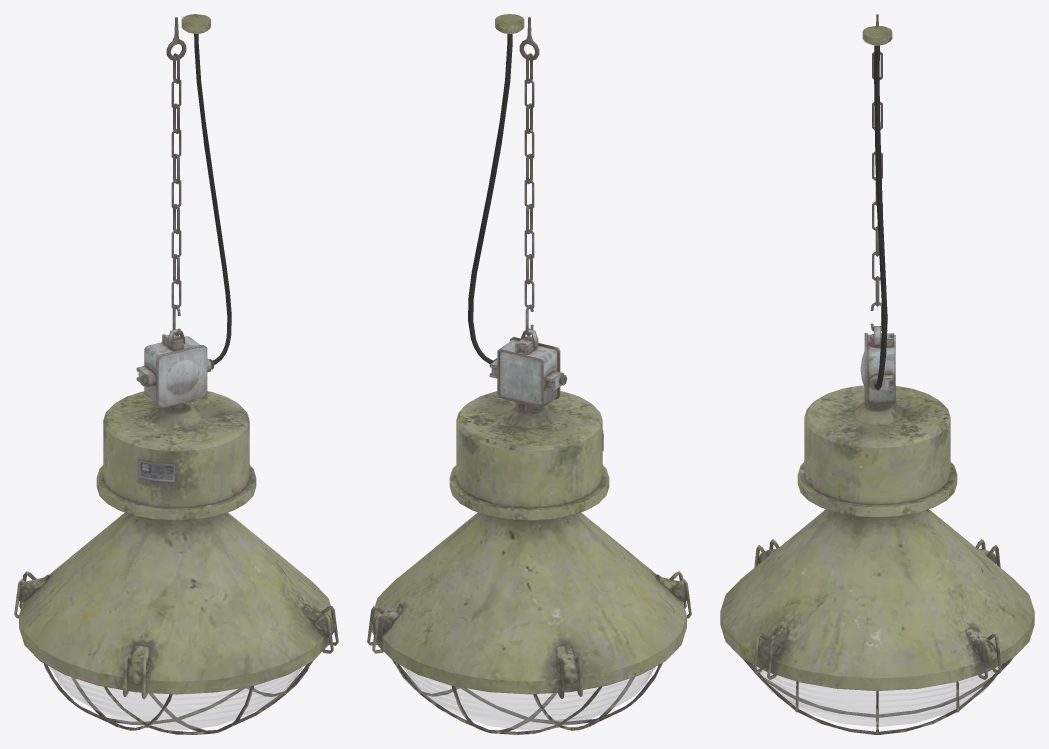
File: hanging_industrial_lamp.glb
3 views of the same model, side by side, from view 1: azimuth 30°, elevation 25°; view 2: azimuth 150°, elevation 25°; view 3: azimuth 270°, elevation 25° (orthographic).
Visible parts, largest first — view 1: hanging_industrial_lamp; view 2: hanging_industrial_lamp; view 3: hanging_industrial_lamp.
Boxes of the visible parts, x1,y1,x2,y2 form: hanging_industrial_lamp: (14,14,338,734); hanging_industrial_lamp: (367,14,691,734); hanging_industrial_lamp: (720,14,1034,734).
Size of the model in its own units: 0.5497 by 1.36 by 0.5497.
2 materials, 1 textured.
